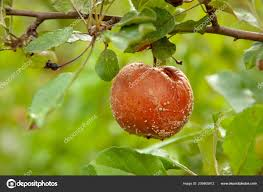damaged_apple: (108, 65, 198, 141)
